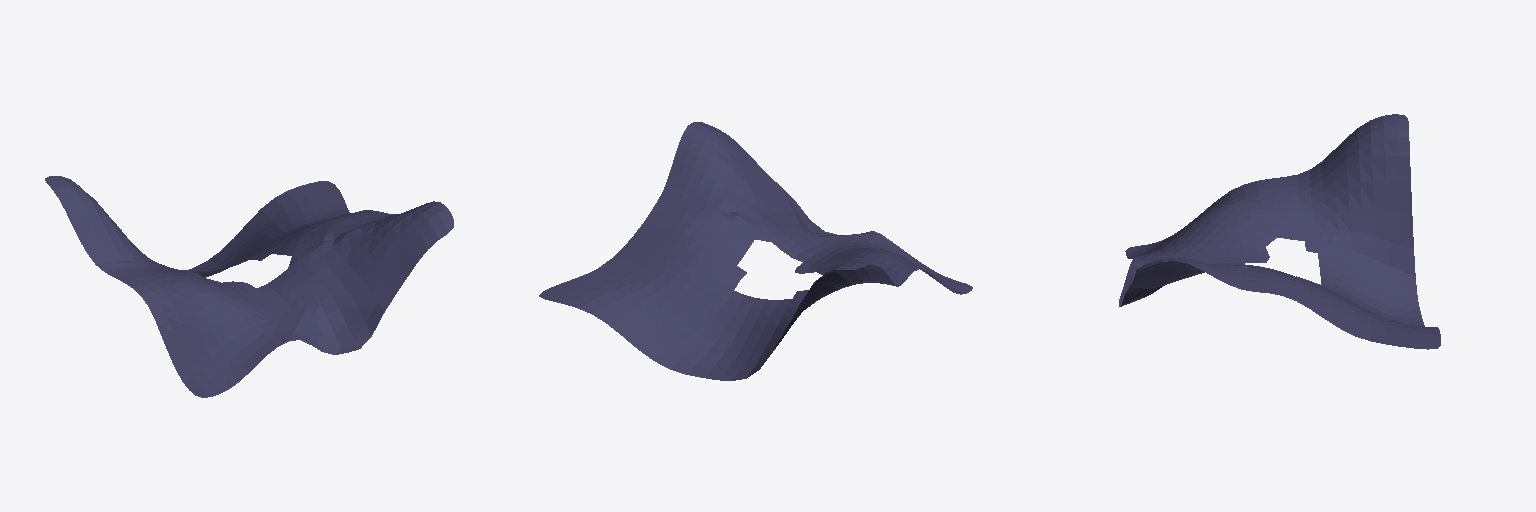
The model's file is Mesh9_WithHole.obj.
3 views of the same model, side by side, from view 1: azimuth 30°, elevation 25°; view 2: azimuth 150°, elevation 25°; view 3: azimuth 270°, elevation 25° (orthographic).
Parts seen in each view (by area): view 1: Hole_Plane.023; view 2: Hole_Plane.023; view 3: Hole_Plane.023.
Boxes of the visible parts, <box> form: Hole_Plane.023: <box>45,176,453,397</box>; Hole_Plane.023: <box>539,122,972,380</box>; Hole_Plane.023: <box>1119,114,1440,349</box>.
Size of the model in its own units: 2.52 by 1.08 by 2.31.